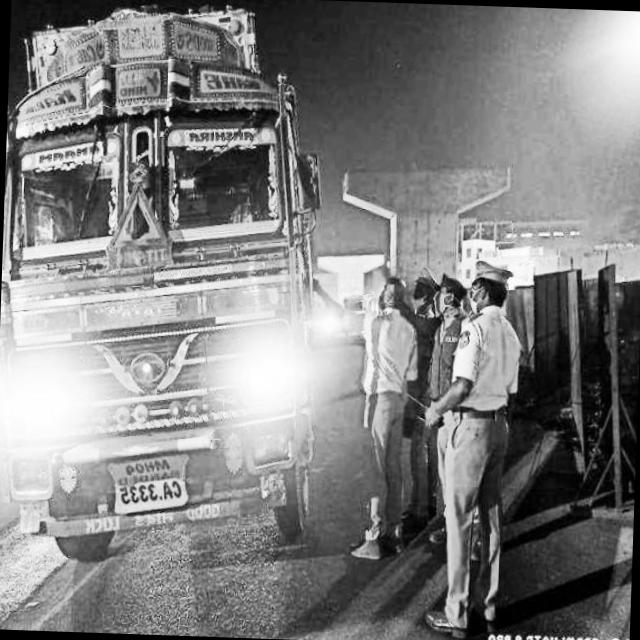Truck: (0, 0, 335, 569)
